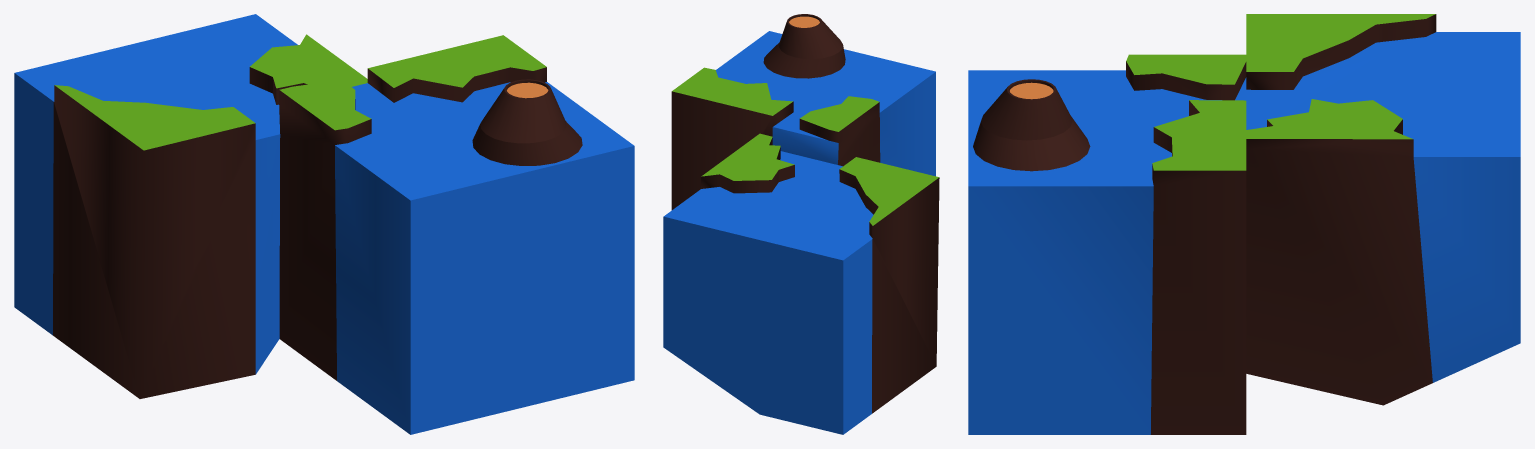
Rendered from Track2_mod.fbx.
3 views of the same model, side by side, from view 1: azimuth 30°, elevation 25°; view 2: azimuth 150°, elevation 25°; view 3: azimuth 270°, elevation 25° (orthographic). The views are drawn at different scales.
Parts seen in each view (by area): view 1: pCylinder2; view 2: pCylinder2; view 3: pCylinder2.
Boxes of the visible parts, left/top/right/bottom form: pCylinder2: left=14, top=14, right=634, bottom=434; pCylinder2: left=663, top=14, right=939, bottom=434; pCylinder2: left=968, top=14, right=1520, bottom=434.
Bounding box in the file's own units: 353 × 298 × 443.
